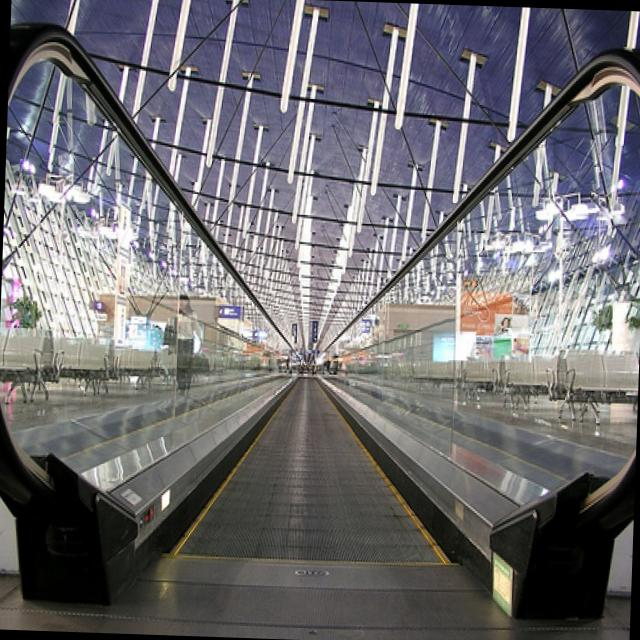ceiling beam: (11, 0, 640, 362)
conveyor belt: (0, 19, 640, 618)
floor -X: (0, 489, 633, 640)
lamp crop: (287, 3, 322, 183), (206, 0, 242, 165), (371, 25, 401, 193), (292, 82, 321, 219), (454, 51, 479, 198), (229, 71, 256, 202), (508, 7, 532, 138), (396, 3, 421, 127), (134, 0, 160, 116), (280, 0, 307, 110), (242, 122, 265, 233), (422, 117, 444, 232), (171, 65, 194, 167), (169, 0, 192, 89), (402, 160, 422, 254)
lamps: (314, 99, 376, 346), (297, 135, 316, 355)
